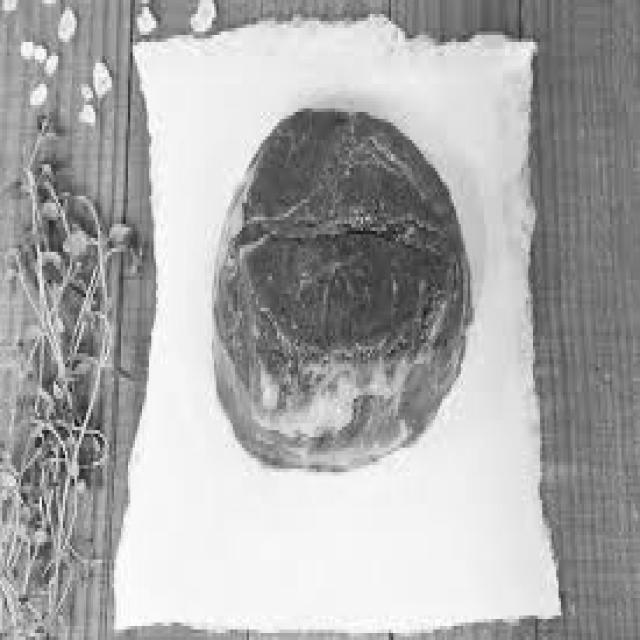than bit tet: (214, 116, 473, 468)
